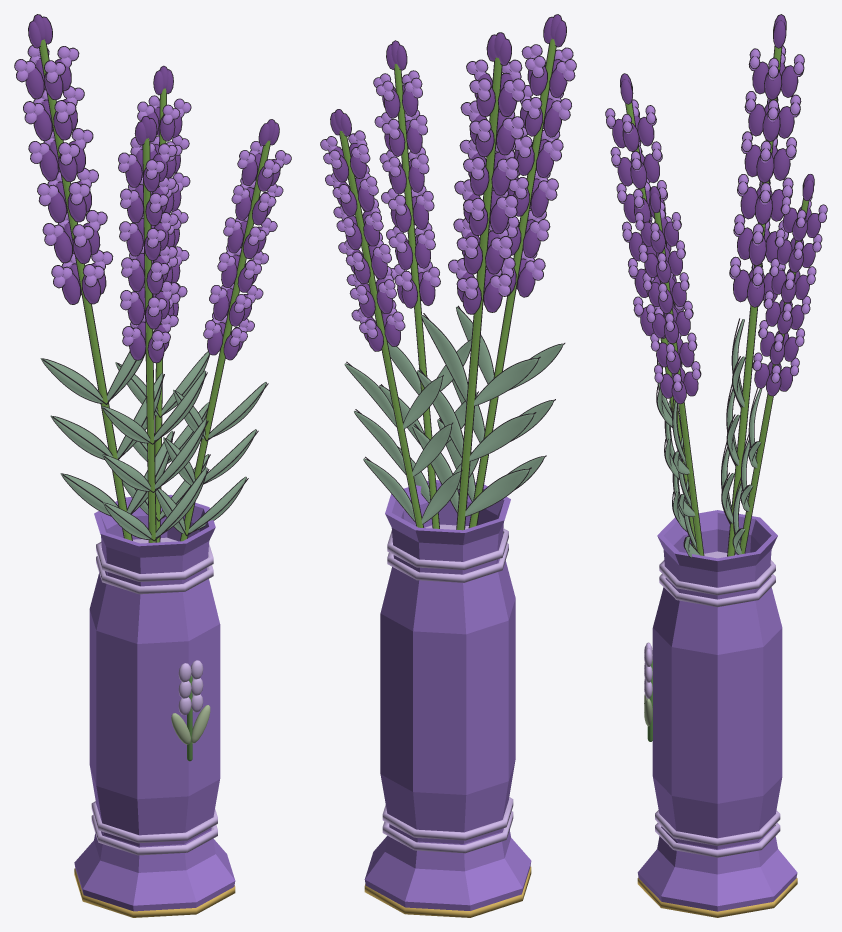
Rendered from vase_lavender_flowers.glb.
3 renders of one model, left to right at view 1: azimuth 30°, elevation 25°; view 2: azimuth 150°, elevation 25°; view 3: azimuth 270°, elevation 25°, orthographic. The views are drawn at different scales.
Visible parts, largest first — view 1: Octagonal_lavender_body, lavender_Geometry.002, lavender_Geometry.001, lavender_Geometry, lavender_Geometry.003, Octagonal_relief_band.003, Octagonal_relief_band.001, Lavender_brass_foot, Octagonal_relief_band, Octagonal_relief_band.002; view 2: Octagonal_lavender_body, lavender_Geometry.002, lavender_Geometry.003, lavender_Geometry.001, lavender_Geometry, Octagonal_relief_band.003, Octagonal_relief_band.001, Lavender_brass_foot, Octagonal_relief_band, Octagonal_relief_band.002; view 3: Octagonal_lavender_body, lavender_Geometry.002, lavender_Geometry.003, lavender_Geometry, lavender_Geometry.001, Octagonal_relief_band.003, Lavender_brass_foot, Octagonal_relief_band.001, Octagonal_relief_band, Octagonal_relief_band.002.
Part boxes in pixels (left/top/right/bottom): Octagonal_lavender_body: left=74, top=494, right=235, bottom=911; lavender_Geometry.002: left=14, top=14, right=174, bottom=540; lavender_Geometry.001: left=101, top=116, right=209, bottom=542; lavender_Geometry: left=155, top=119, right=291, bottom=541; lavender_Geometry.003: left=115, top=65, right=210, bottom=542; Octagonal_relief_band.003: left=96, top=537, right=213, bottom=581; Octagonal_relief_band.001: left=91, top=801, right=217, bottom=843; Lavender_brass_foot: left=74, top=868, right=235, bottom=917; Octagonal_relief_band: left=91, top=815, right=217, bottom=855; Octagonal_relief_band.002: left=96, top=556, right=213, bottom=594; Octagonal_lavender_body: left=364, top=480, right=531, bottom=910; lavender_Geometry.002: left=412, top=32, right=540, bottom=530; lavender_Geometry.003: left=320, top=109, right=462, bottom=527; lavender_Geometry.001: left=437, top=14, right=576, bottom=528; lavender_Geometry: left=373, top=40, right=478, bottom=528; Octagonal_relief_band.003: left=387, top=524, right=508, bottom=570; Octagonal_relief_band.001: left=382, top=797, right=513, bottom=840; Lavender_brass_foot: left=364, top=866, right=531, bottom=917; Octagonal_relief_band: left=382, top=811, right=513, bottom=853; Octagonal_relief_band.002: left=387, top=543, right=508, bottom=582; Octagonal_lavender_body: left=637, top=510, right=797, bottom=911; lavender_Geometry.002: left=721, top=14, right=804, bottom=556; lavender_Geometry.003: left=732, top=174, right=827, bottom=554; lavender_Geometry: left=635, top=186, right=704, bottom=557; lavender_Geometry.001: left=605, top=73, right=695, bottom=547; Octagonal_relief_band.003: left=659, top=551, right=775, bottom=595; Lavender_brass_foot: left=637, top=877, right=797, bottom=917; Octagonal_relief_band.001: left=655, top=810, right=780, bottom=845; Octagonal_relief_band: left=655, top=822, right=780, bottom=857; Octagonal_relief_band.002: left=659, top=574, right=775, bottom=607.
Size of the model in its own units: 0.108 by 0.4262 by 0.103.
